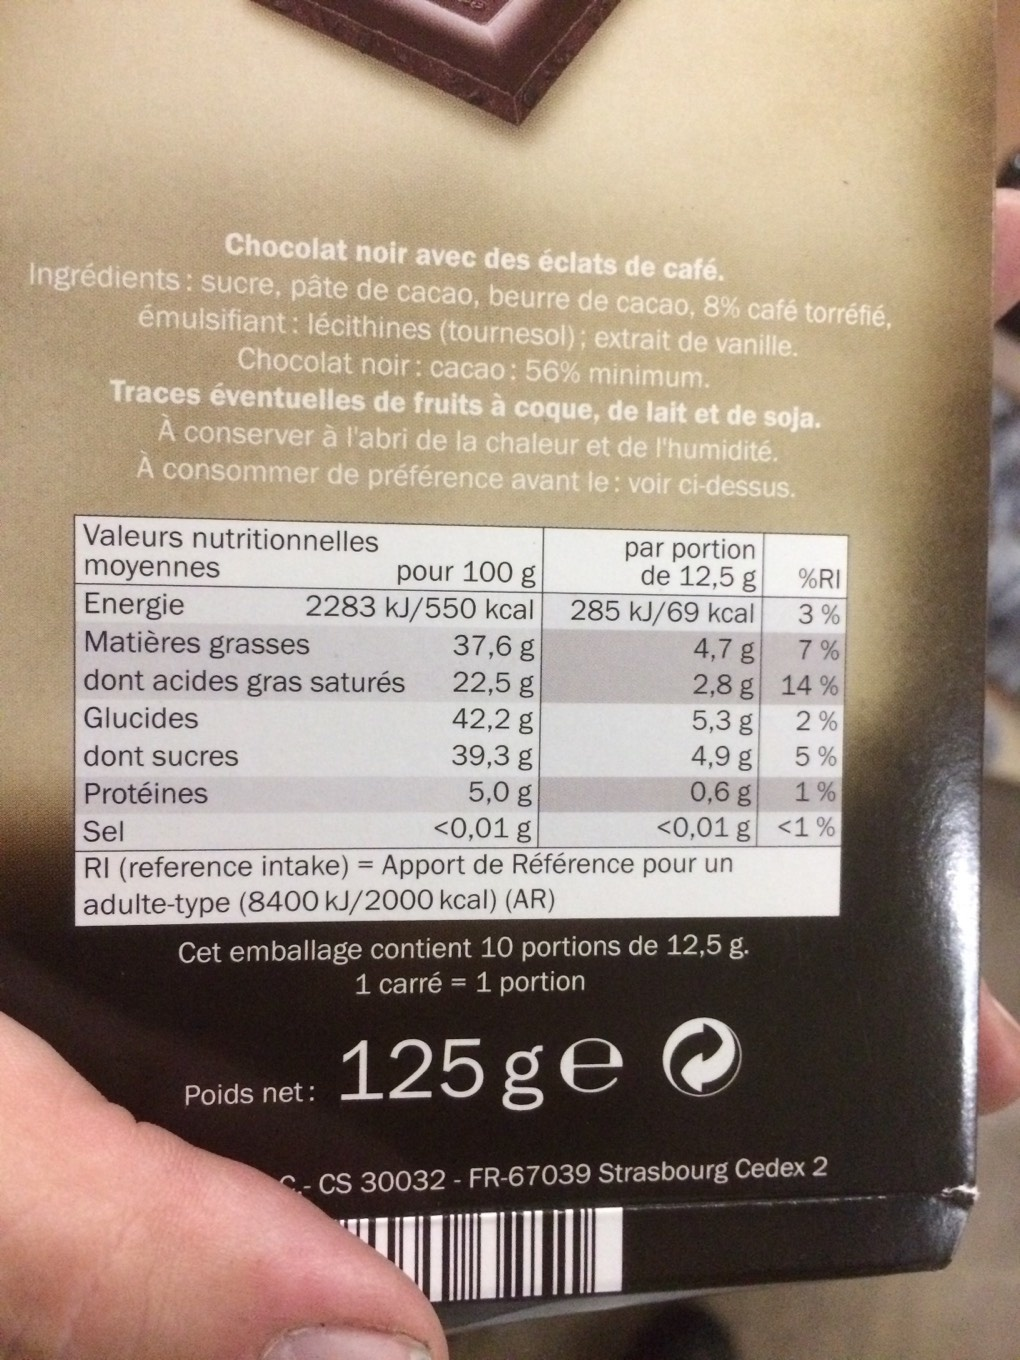column: (82, 522, 532, 845), (569, 534, 752, 842), (779, 537, 839, 842)
table: (75, 510, 849, 857)
